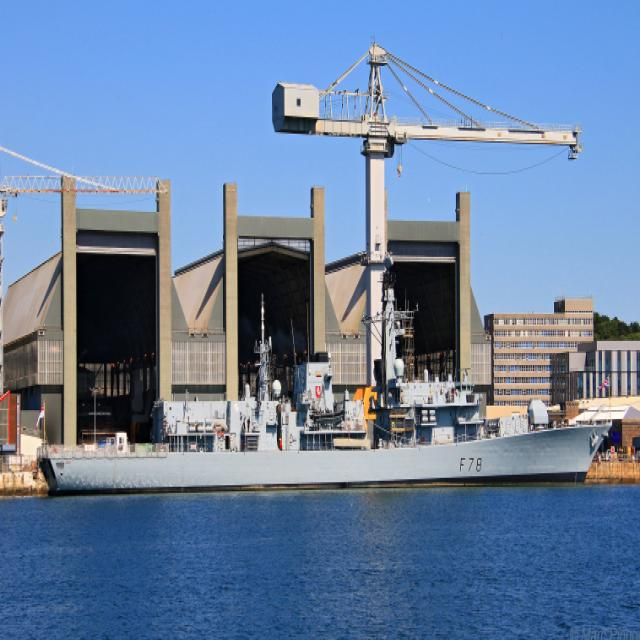Fragata: (36, 258, 621, 503)
